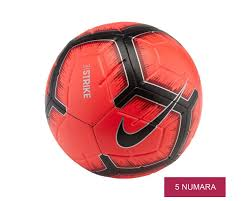top: (35, 16, 207, 179)
